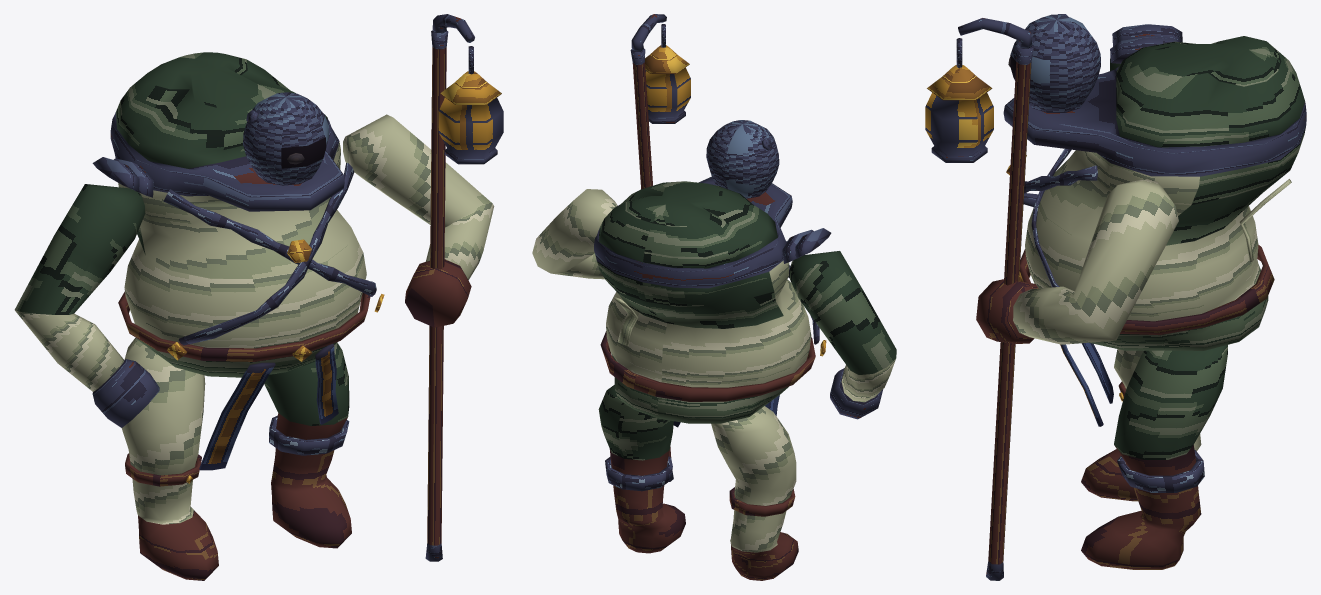
Rendered from gruftwaechter_K1.glb.
3 renders of one model, left to right at view 1: azimuth 30°, elevation 25°; view 2: azimuth 150°, elevation 25°; view 3: azimuth 270°, elevation 25°, orthographic. The views are drawn at different scales.
Visible parts, largest first — view 1: torso, arm_l, gear, leg_l, arm_r, pole, leg_r, head; view 2: torso, arm_l, leg_l, leg_r, gear, pole, arm_r, head; view 3: torso, leg_r, arm_r, pole, gear, head, leg_l, arm_l.
Boxes of the visible parts, x1,y1,x2,y2 form: torso: (110,52,366,377); arm_l: (14,157,159,427); gear: (118,110,384,486); leg_l: (121,337,218,580); arm_r: (343,114,494,327); pole: (425,14,503,561); leg_r: (264,342,351,548); head: (243,92,328,185); torso: (594,176,811,423); arm_l: (782,228,896,419); leg_l: (711,406,798,580); leg_r: (598,385,685,553); gear: (600,138,826,516); pole: (630,14,690,481); arm_r: (532,189,617,279); head: (706,120,779,198); torso: (1003,36,1306,350); leg_r: (1081,345,1227,569); arm_r: (976,178,1178,344); pole: (925,18,1033,580); gear: (1006,14,1291,492); head: (1010,14,1100,112); leg_l: (1081,349,1201,501); arm_l: (1110,24,1182,70).
Size of the model in its own units: 2.16 by 2.52 by 1.5.
Materials: 1 (1 with a texture image).
